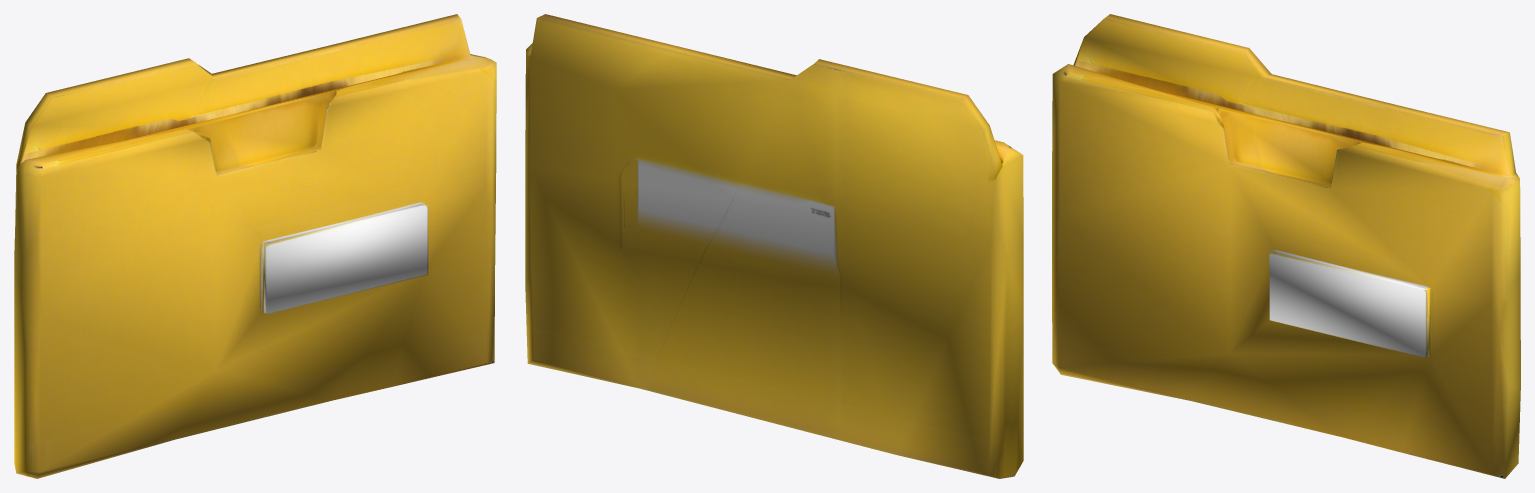
Rendered from intel_report-01b.glb.
3 renders of one model, left to right at view 1: azimuth 30°, elevation 25°; view 2: azimuth 150°, elevation 25°; view 3: azimuth 330°, elevation 25°, orthographic. The views are drawn at different scales.
Bounding box in the file's own units: 2 × 1.47 × 0.2124.
Materials: 1 (1 with a texture image).
